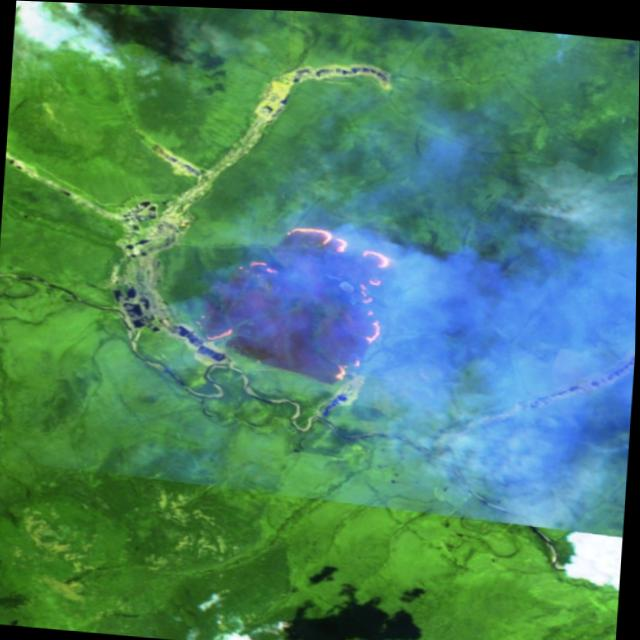fire: (193, 213, 401, 380)
